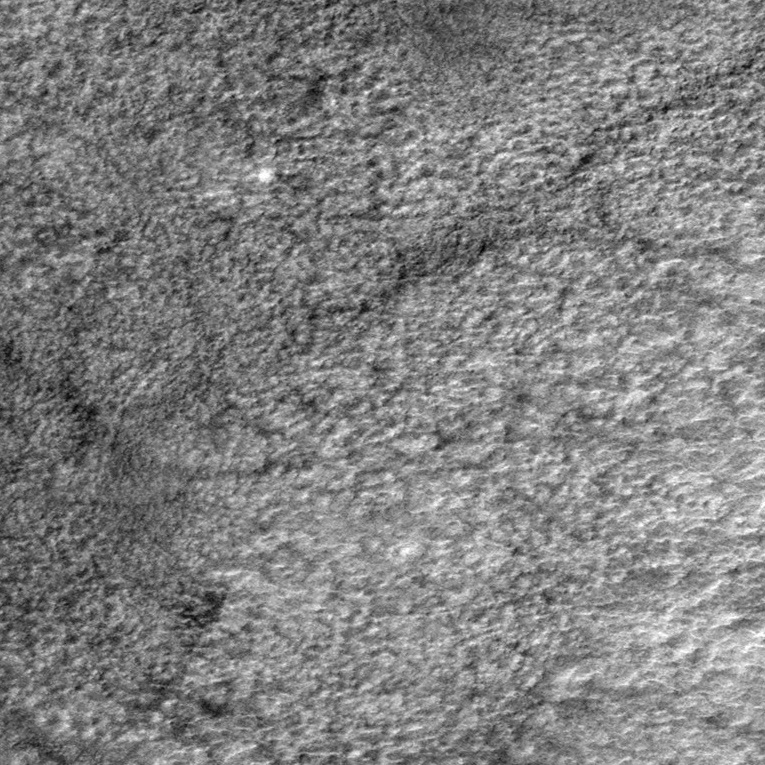dust_devil: (257, 166, 301, 194)
